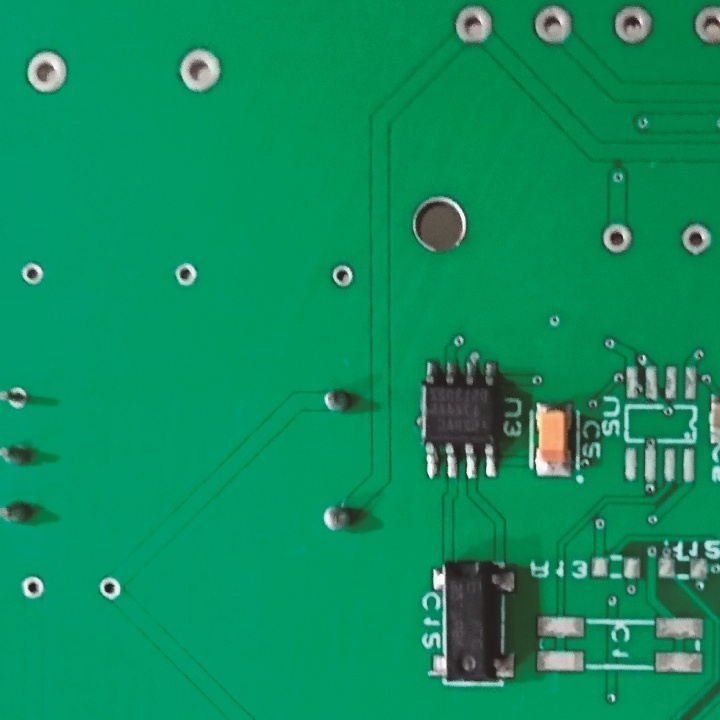F: (175, 45, 224, 98), (22, 48, 69, 98), (449, 4, 499, 49), (609, 4, 656, 49), (530, 5, 576, 49), (676, 220, 716, 258), (598, 219, 638, 255), (693, 4, 720, 48), (329, 260, 357, 292), (96, 572, 124, 603), (1, 380, 28, 412), (19, 573, 47, 600), (172, 261, 198, 290), (17, 260, 42, 285)
